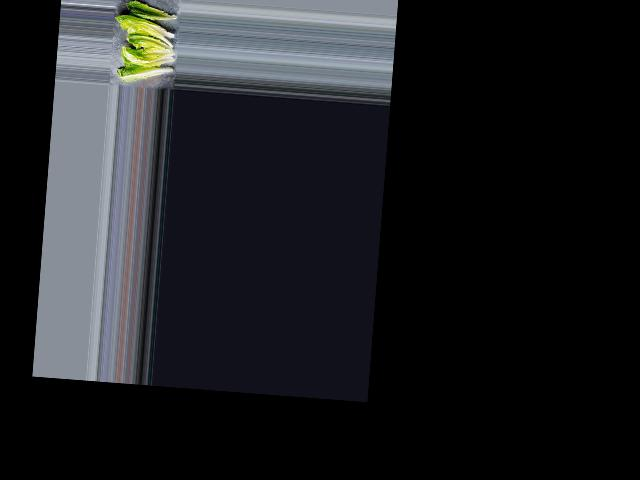lettuce: (125, 1, 180, 22)
